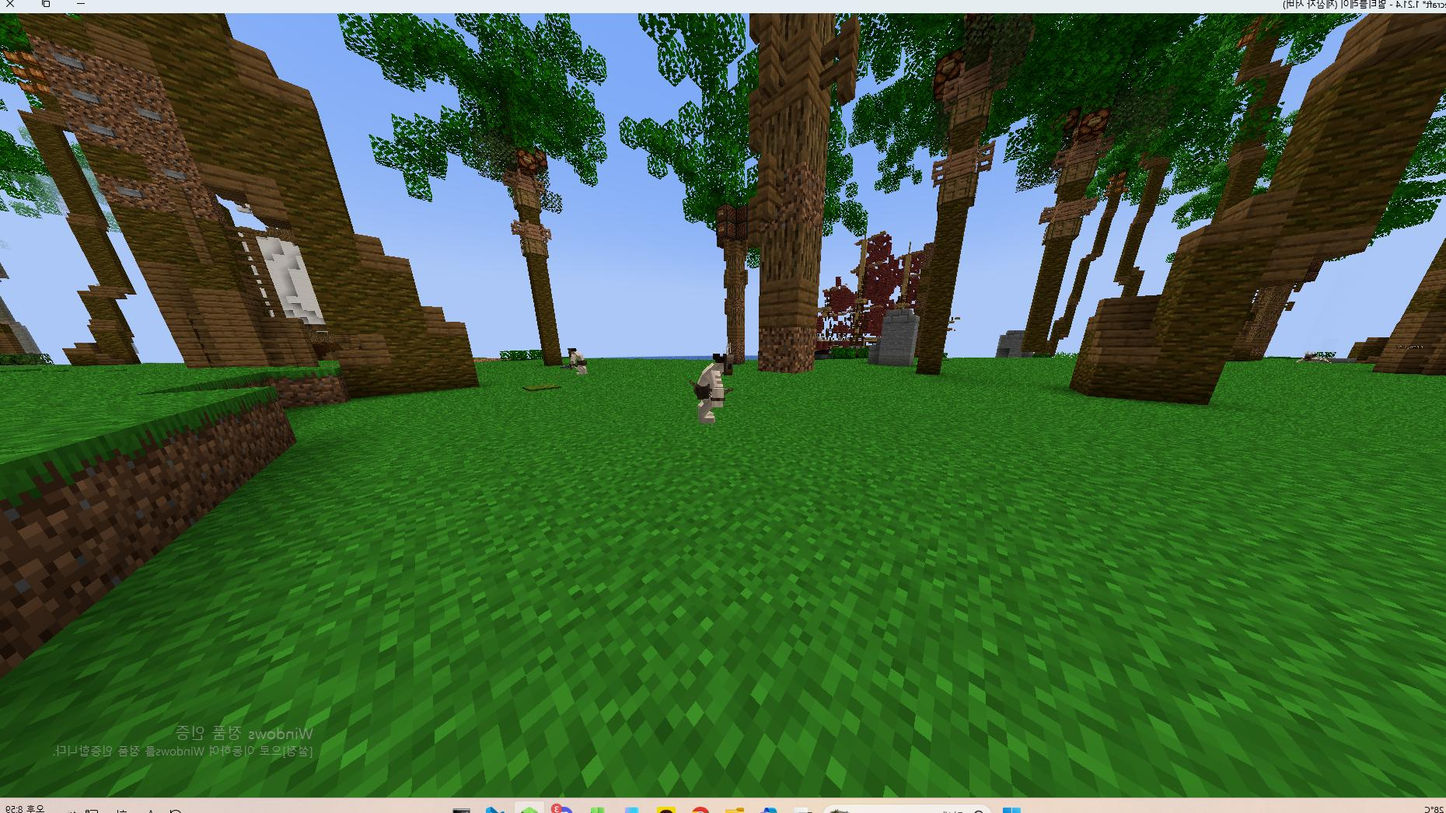bow_indian: (677, 337, 747, 432)
